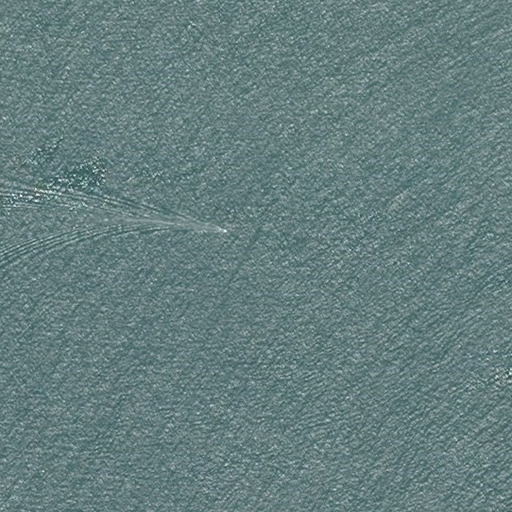ship: (213, 223, 230, 236)
